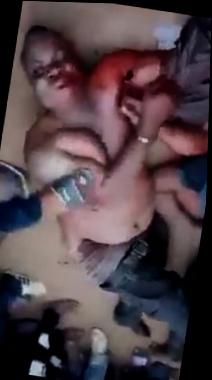Fire: (35, 28, 179, 119)
